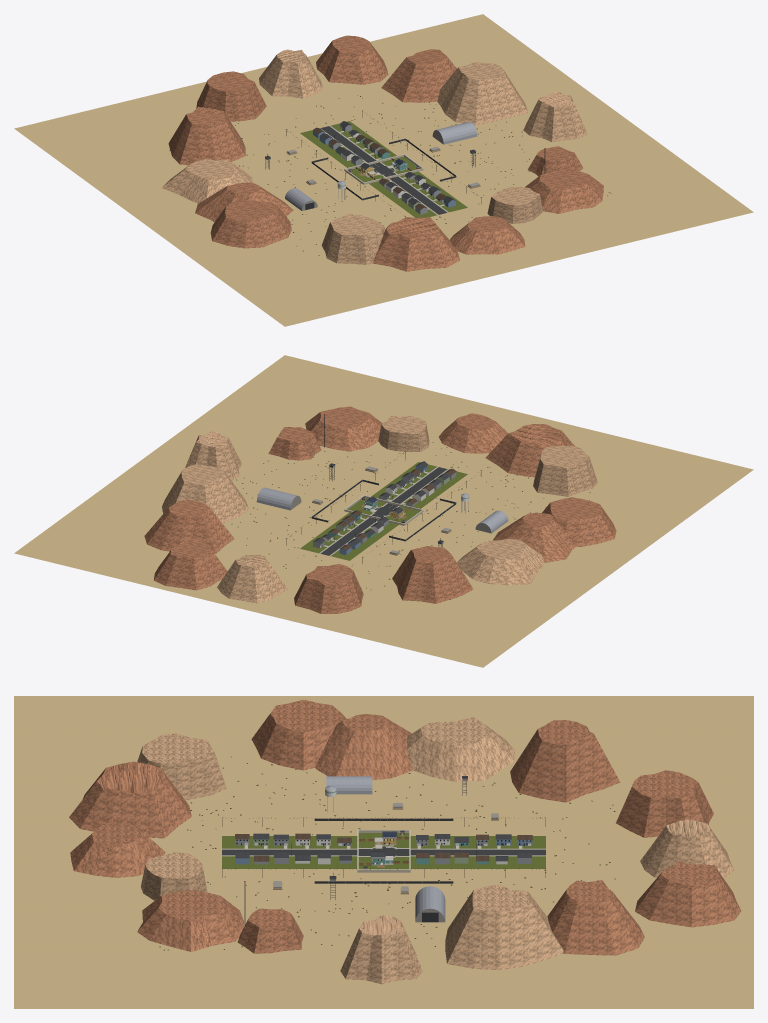
The model's file is halcyon-structure.glb.
The picture shows the model from 3 angles, top to bottom: view 1: azimuth 30°, elevation 25°; view 2: azimuth 150°, elevation 25°; view 3: azimuth 270°, elevation 25°; orthographic projection. The views are drawn at different scales.
Visible parts, largest first — view 1: backdrop.ground, backdrop.mesas, backdrop.structures, backdrop.houses; view 2: backdrop.ground, backdrop.mesas, backdrop.structures, backdrop.houses; view 3: backdrop.ground, backdrop.mesas, backdrop.houses, backdrop.structures, backdrop.scrub.
Part boxes in pixels (x1,y1,x2,y2): backdrop.ground: (14,14,753,326); backdrop.mesas: (162,35,603,271); backdrop.structures: (265,110,545,217); backdrop.houses: (313,121,455,214); backdrop.ground: (14,355,753,667); backdrop.mesas: (144,406,616,613); backdrop.structures: (256,414,508,563); backdrop.houses: (313,461,456,554); backdrop.ground: (14,696,753,1008); backdrop.mesas: (69,699,741,984); backdrop.houses: (235,833,532,864); backdrop.structures: (222,772,545,925); backdrop.scrub: (159,756,615,950).
Bounding box in the file's own units: 640 × 49.01 × 640.
51 materials, 51 textured.
